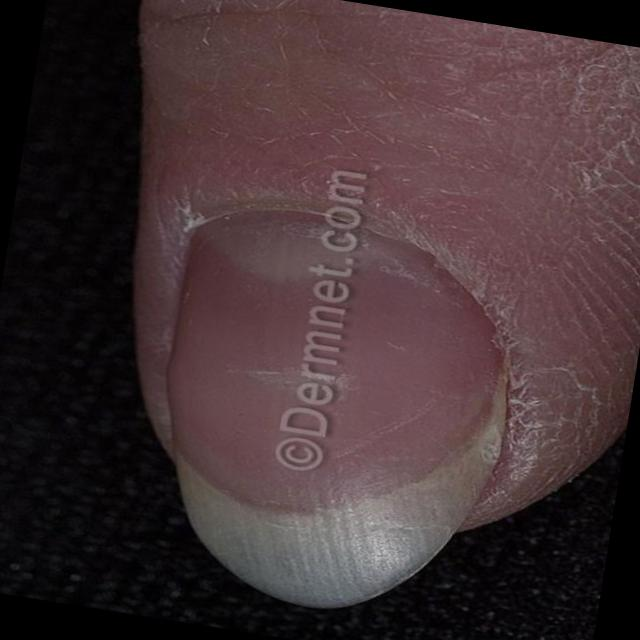Nail: (167, 211, 510, 608)
